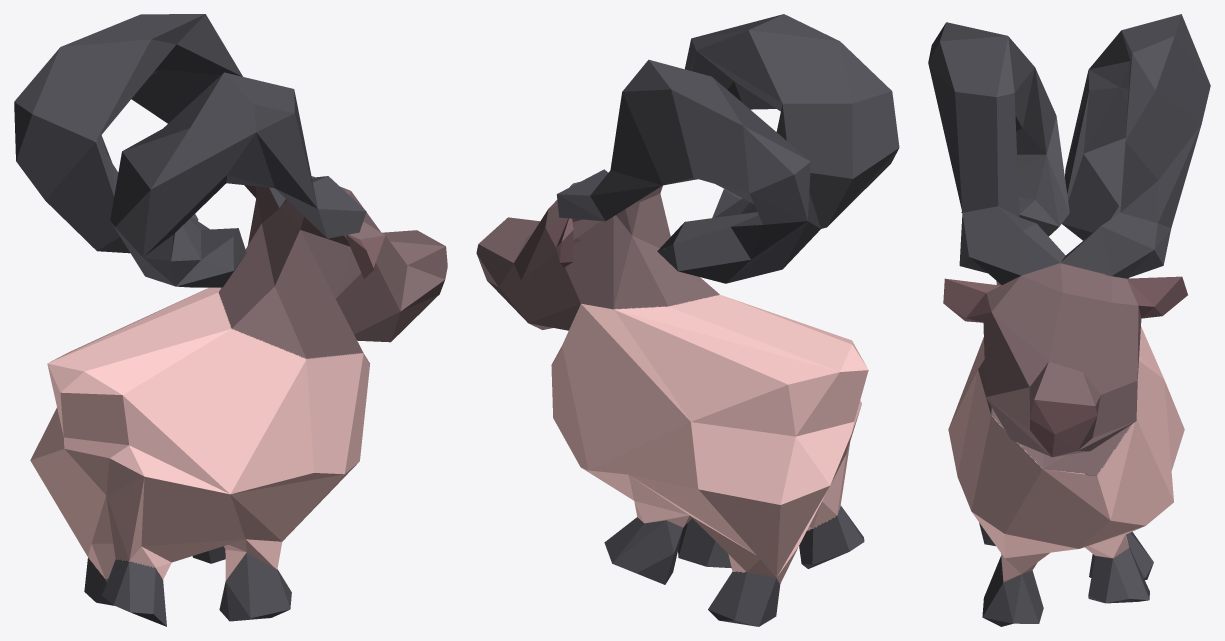
The model's file is cabrita_000037.obj.
3 views of the same model, side by side, from view 1: azimuth 30°, elevation 25°; view 2: azimuth 150°, elevation 25°; view 3: azimuth 270°, elevation 25° (orthographic). The views are drawn at different scales.
Visible parts, largest first — view 1: cabra_Cube.067; view 2: cabra_Cube.067; view 3: cabra_Cube.067.
Part boxes in pixels (box(x1,y1,x2,y2)): cabra_Cube.067: box(14, 14, 447, 626); cabra_Cube.067: box(476, 14, 899, 626); cabra_Cube.067: box(928, 14, 1210, 626).
Size of the model in its own units: 42.11 by 58.08 by 26.27.
1 material, 1 textured.
